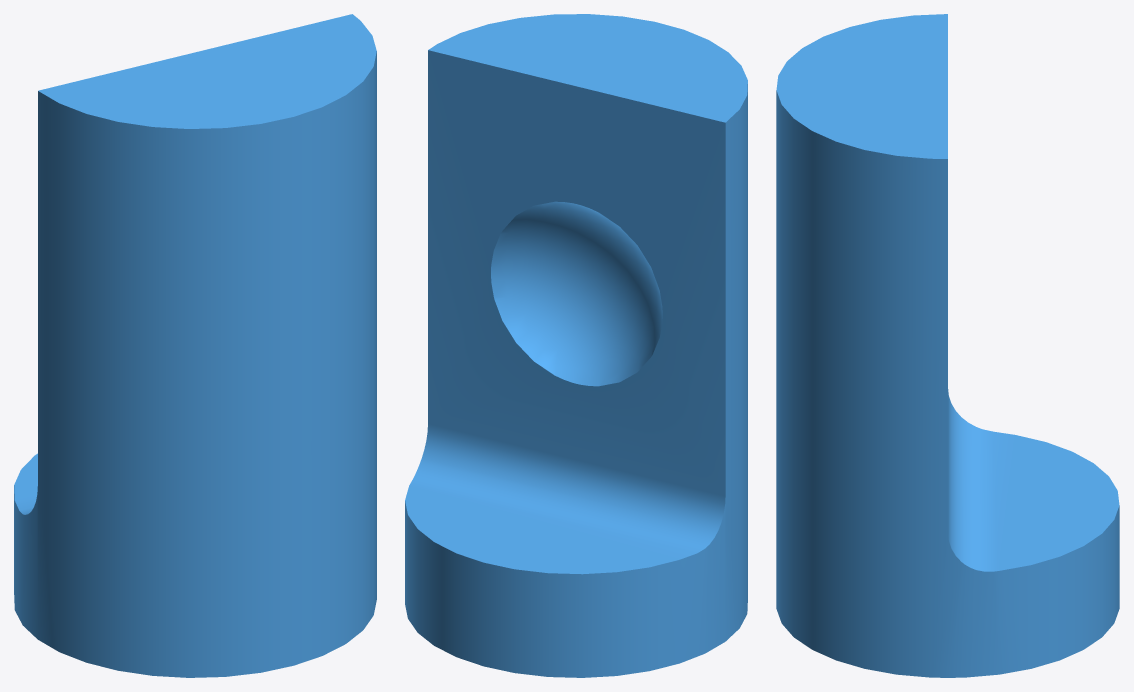
File: spoon_shallow.dae
3 renders of one model, left to right at view 1: azimuth 30°, elevation 25°; view 2: azimuth 150°, elevation 25°; view 3: azimuth 270°, elevation 25°, orthographic. The views are drawn at different scales.
Visible parts, largest first — view 1: spoon_shallow; view 2: spoon_shallow; view 3: spoon_shallow.
Boxes of the visible parts, bbox=[...] form: spoon_shallow: bbox=[14, 14, 376, 677]; spoon_shallow: bbox=[405, 14, 747, 677]; spoon_shallow: bbox=[776, 14, 1119, 677].
Bounding box in the file's own units: 0.075 × 0.0749 × 0.125.
